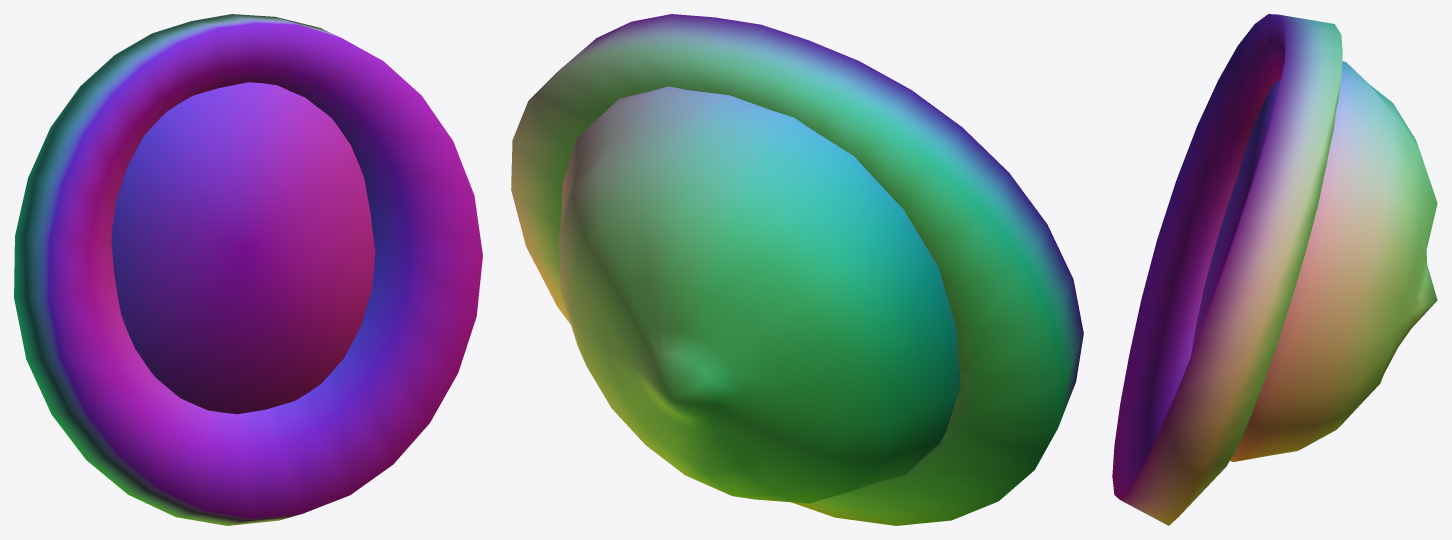
File: SM_Mon_Unburied_Att_KettleHelm.fbx
3 views of the same model, side by side, from view 1: azimuth 30°, elevation 25°; view 2: azimuth 150°, elevation 25°; view 3: azimuth 270°, elevation 25° (orthographic). The views are drawn at different scales.
Parts seen in each view (by area): view 1: SM_Mon_Unburied_Att_KettleHelm; view 2: SM_Mon_Unburied_Att_KettleHelm; view 3: SM_Mon_Unburied_Att_KettleHelm.
Boxes of the visible parts, x1,y1,x2,y2 form: SM_Mon_Unburied_Att_KettleHelm: (14,14,482,525); SM_Mon_Unburied_Att_KettleHelm: (511,14,1083,525); SM_Mon_Unburied_Att_KettleHelm: (1112,14,1437,525).
Size of the model in its own units: 0.3575 by 0.3442 by 0.2193.
